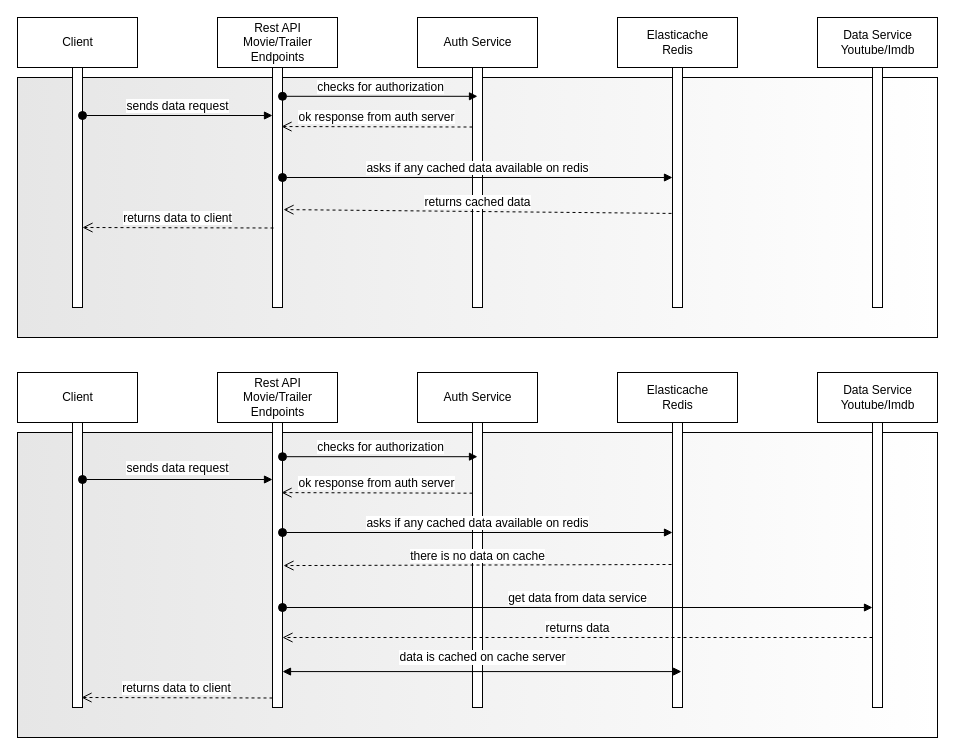
This 955x755 diagram has some shape labels left out. The centre of each missing label's shape, as x and y in pixels:
Happy flow with cached data: (x=477, y=207)
Happy flow with uncached data: (x=477, y=585)
